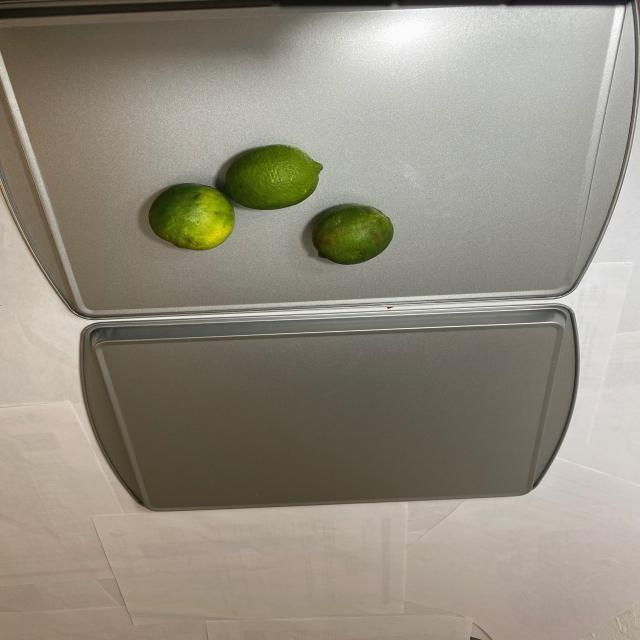lemon: (141, 146, 397, 268)
